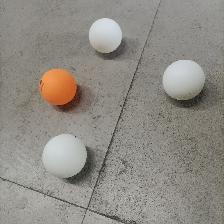WhiteBall: (40, 133, 88, 179), (161, 59, 205, 102), (87, 17, 123, 54)
YellowBall: (37, 68, 77, 105)
